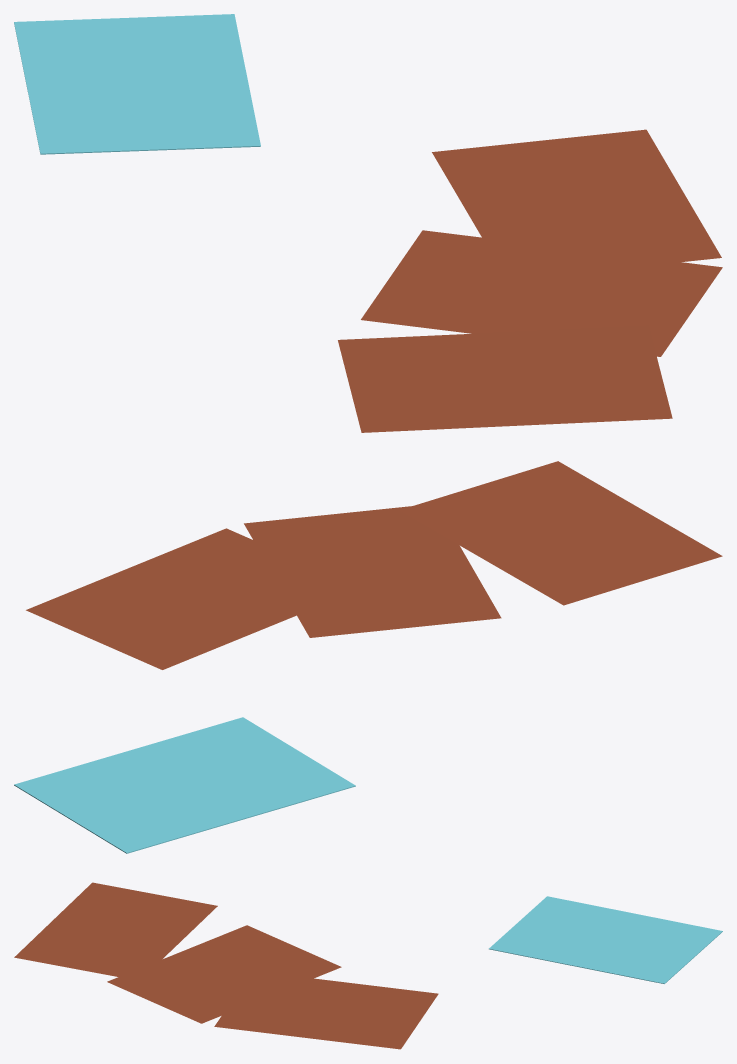
The model's file is PAPER.fbx.
The picture shows the model from 3 angles, top to bottom: view 1: azimuth 30°, elevation 25°; view 2: azimuth 150°, elevation 25°; view 3: azimuth 270°, elevation 25°; orthographic projection. The views are drawn at different scales.
Parts seen in each view (by area): view 1: model_11.002, model_11.001; view 2: model_11.002, model_11.001; view 3: model_11.002, model_11.001.
Part boxes in pixels (x1,y1,x2,y2): model_11.002: [338, 129, 722, 432]; model_11.001: [14, 14, 260, 154]; model_11.002: [26, 461, 722, 669]; model_11.001: [14, 717, 355, 853]; model_11.002: [14, 882, 438, 1049]; model_11.001: [489, 896, 722, 983].
Bounding box in the file's own units: 294 × 4.6 × 546.
